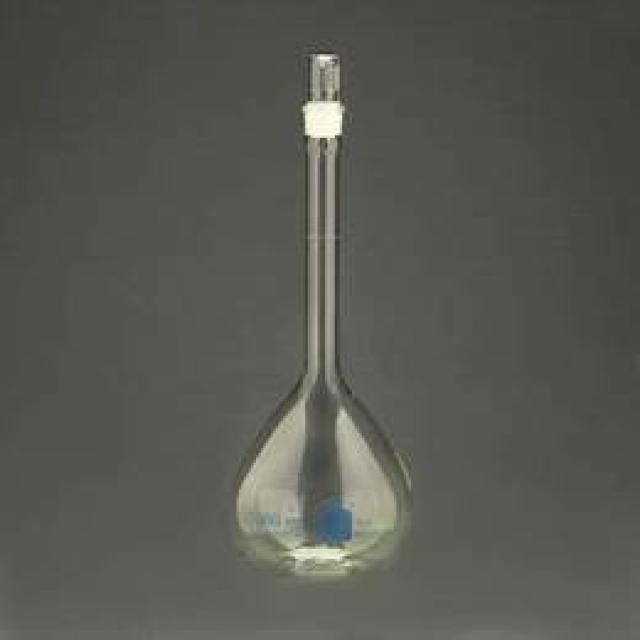Volumetric flask: (212, 38, 434, 576)
